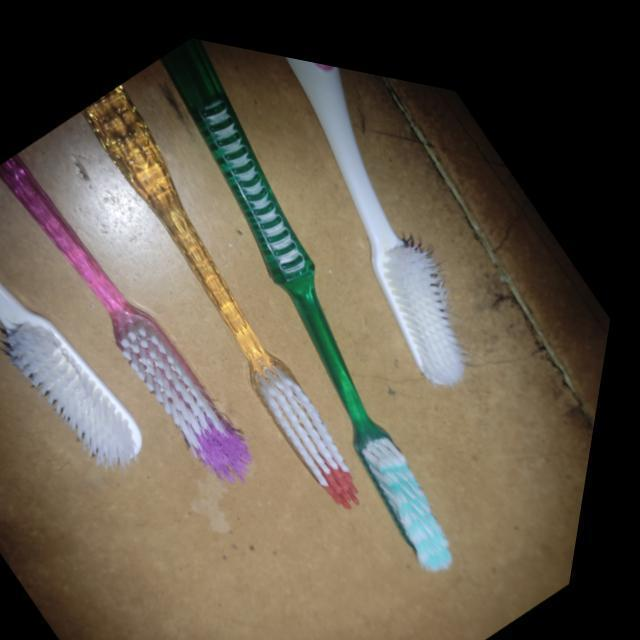toothbrush: (151, 30, 485, 577), (82, 68, 386, 511), (0, 142, 288, 488), (282, 45, 483, 387), (0, 242, 179, 498)
